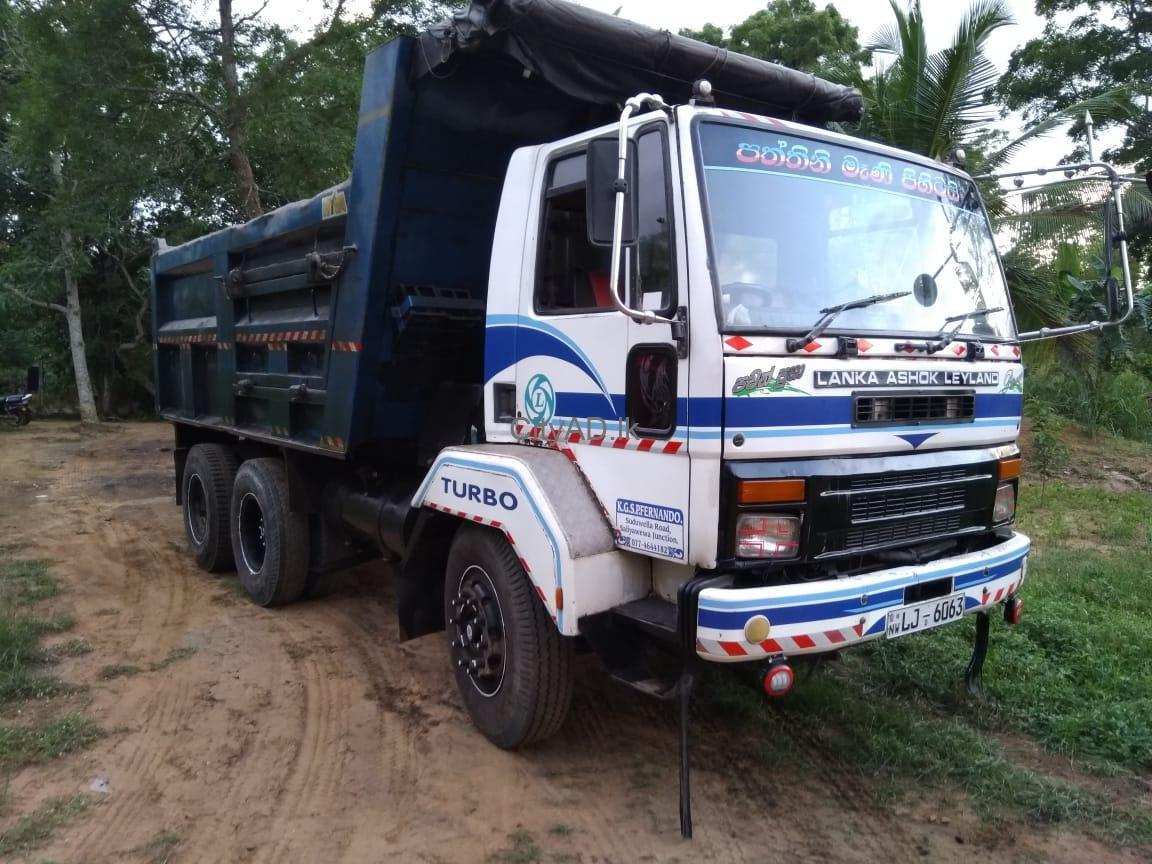truck: (149, 2, 1030, 749)
